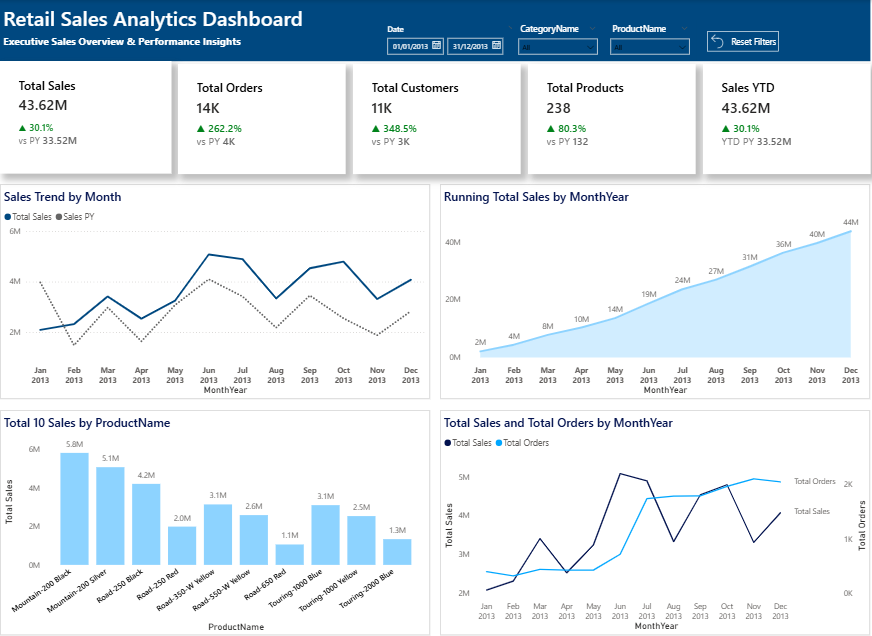

The page's visual inventory and layout, read from the dashboard file:
{"tool":"powerbi","page":{"name":"Page 1","canvas":[1366,1000],"ordinal":0},"visuals":[{"type":"group","id":"g1","title":"Group 1","box":[0,0,1360,96],"z":0,"group":"g2"},{"type":"shape","box":[0,0,1360,96],"z":0,"group":"g1"},{"type":"cardVisual","fields":{"Data":["MeasureGroup.Total Sales"]},"box":[0,96,267.9,176],"z":0,"group":"g3"},{"type":"lineChart","title":"Sales Trend by Month","fields":{"Y":["MeasureGroup.Total Sales","MeasureGroup.Sales PY"],"Category":["dim_date.MonthYear"]},"box":[0,288,672,336],"z":0},{"type":"textbox","box":[0,0,528,64],"z":1000,"group":"g1"},{"type":"areaChart","fields":{"Category":["dim_date.MonthYear"],"Y":["MeasureGroup.Running Total Sales"]},"box":[688,288,672,336],"z":1000},{"type":"group","id":"g2","title":"Group 2","box":[0,0,1360,96],"z":2000},{"type":"textbox","box":[0,48,400,32],"z":2000,"group":"g1"},{"type":"cardVisual","fields":{"Data":["MeasureGroup.Total Orders"]},"box":[278.8,100,262.1,172],"z":2000,"group":"g3"},{"type":"actionButton","box":[1104,48,112,32],"z":3000},{"type":"cardVisual","fields":{"Data":["MeasureGroup.Total Customers"]},"box":[551.8,100,262.1,172],"z":3000,"group":"g3"},{"type":"group","id":"g3","title":"Group 3","box":[0,96,1360,176],"z":4000},{"type":"cardVisual","fields":{"Data":["MeasureGroup.Total Products"]},"box":[824.8,100,262.1,172],"z":4000,"group":"g3"},{"type":"cardVisual","fields":{"Data":["MeasureGroup.Sales YTD"]},"box":[1097.9,100,262.1,172],"z":5000,"group":"g3"},{"type":"clusteredColumnChart","title":"Total 10 Sales by ProductName","fields":{"Category":["dim_product.ProductName"],"Y":["MeasureGroup.Total Sales"]},"box":[0,640,672,352],"z":5000},{"type":"lineChart","fields":{"Category":["dim_date.MonthYear"],"Y":["MeasureGroup.Total Sales"],"Y2":["MeasureGroup.Total Orders"]},"box":[688,640,672,352],"z":6000},{"type":"slicer","fields":{"Values":["dim_date.Date"]},"box":[592,32,224,64],"z":9000,"group":"g2"},{"type":"slicer","fields":{"Values":["dim_product.CategoryName"]},"box":[800,32,144,64],"z":10000,"group":"g2"},{"type":"slicer","fields":{"Values":["dim_product.ProductName"]},"box":[944,32,144,64],"z":11000,"group":"g2"}]}

Visuals, with their boxes in screenshot pixels (x1, y1, x2, y2), scaled from the page's 1366x1000 canvas onto the 872x636 screenshot:
"Group 1" group: [0,0,868,61]
shape: [0,0,868,61]
cardVisual - MeasureGroup.Total Sales: [0,61,171,173]
"Sales Trend by Month" lineChart: [0,183,429,397]
textbox: [0,0,337,41]
areaChart - dim_date.MonthYear x MeasureGroup.Running Total Sales: [439,183,868,397]
"Group 2" group: [0,0,868,61]
textbox: [0,31,255,51]
cardVisual - MeasureGroup.Total Orders: [178,64,345,173]
actionButton: [705,31,776,51]
cardVisual - MeasureGroup.Total Customers: [352,64,520,173]
"Group 3" group: [0,61,868,173]
cardVisual - MeasureGroup.Total Products: [527,64,694,173]
cardVisual - MeasureGroup.Sales YTD: [701,64,868,173]
"Total 10 Sales by ProductName" clusteredColumnChart: [0,407,429,631]
lineChart - dim_date.MonthYear x MeasureGroup.Total Sales: [439,407,868,631]
slicer - dim_date.Date: [378,20,521,61]
slicer - dim_product.CategoryName: [511,20,603,61]
slicer - dim_product.ProductName: [603,20,695,61]
